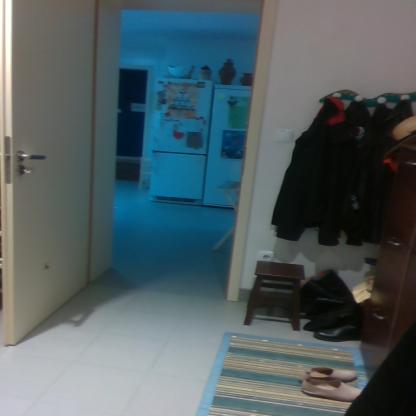open: (0, 0, 255, 345)
